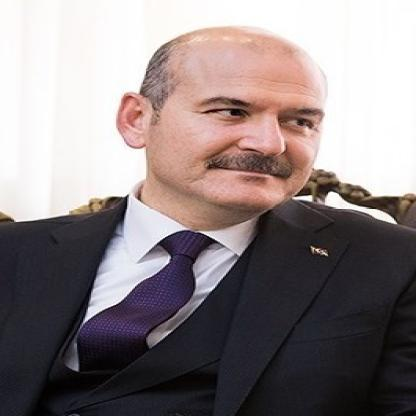person: (116, 26, 342, 227)
